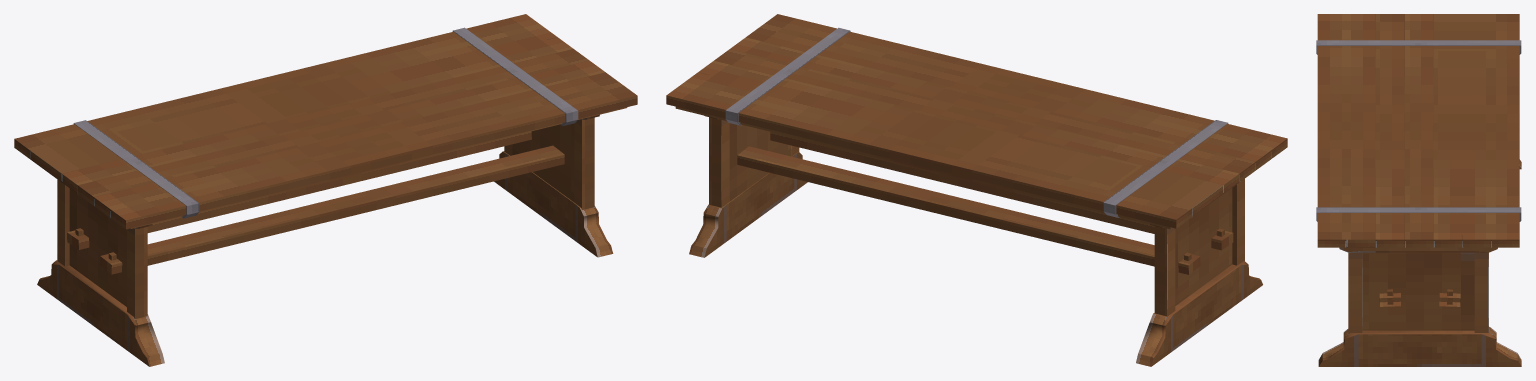
File: table-ceP9gDOG.glb
3 views of the same model, side by side, from view 1: azimuth 30°, elevation 25°; view 2: azimuth 150°, elevation 25°; view 3: azimuth 270°, elevation 25° (orthographic). The views are drawn at different scales.
Bounding box in the file's own units: 2.85 × 0.8134 × 1.1.
1 material, 1 textured.
